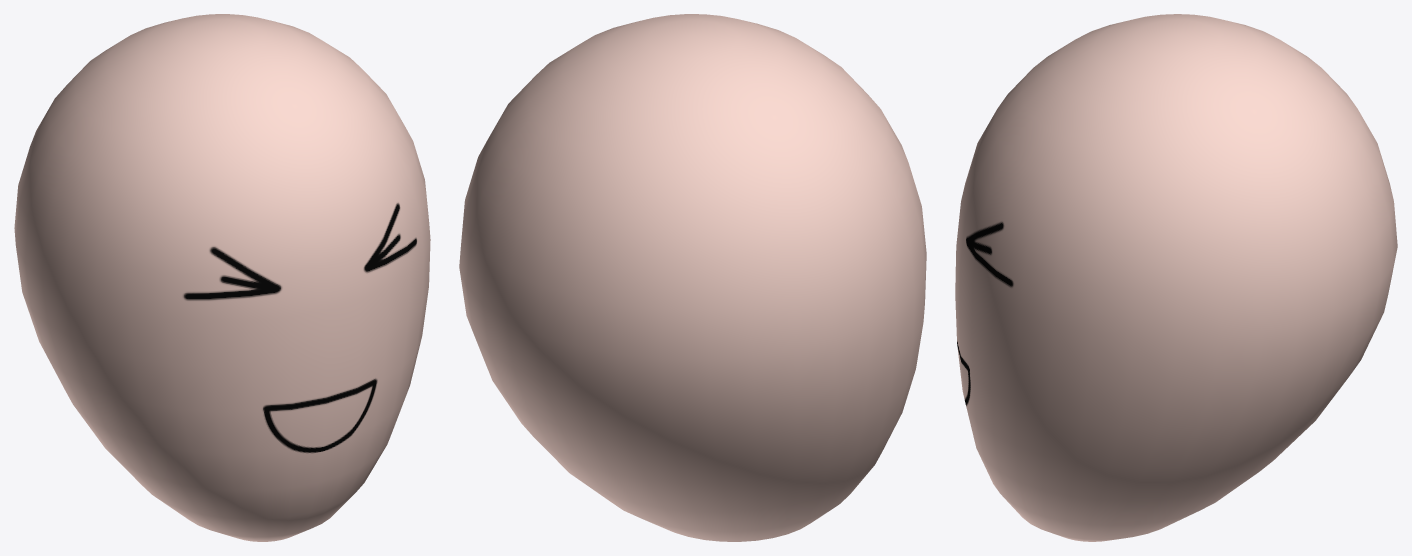
File: NvShenTou.FBX
3 renders of one model, left to right at view 1: azimuth 30°, elevation 25°; view 2: azimuth 150°, elevation 25°; view 3: azimuth 270°, elevation 25°, orthographic. The views are drawn at different scales.
Parts seen in each view (by area): view 1: Head; view 2: Head; view 3: Head.
Boxes of the visible parts, left/top/right/bottom form: Head: left=14, top=14, right=430, bottom=541; Head: left=459, top=14, right=926, bottom=541; Head: left=955, top=14, right=1397, bottom=541.
Size of the model in its own units: 23.62 by 29.3 by 23.68.
